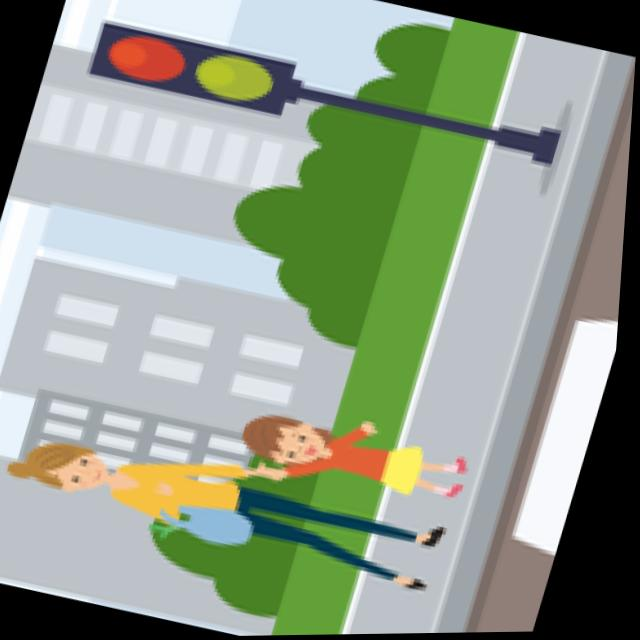red_light: (94, 4, 213, 102)
yellow_light: (177, 35, 311, 124)
